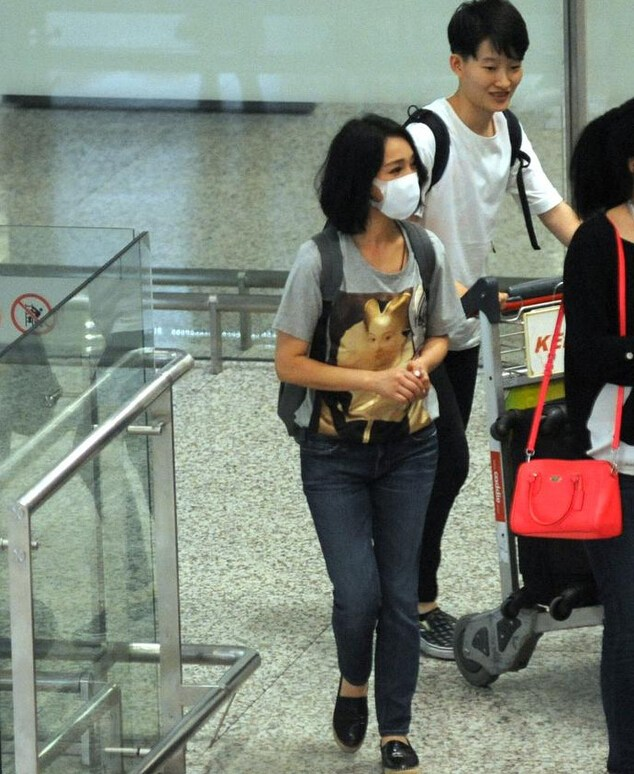face: (464, 31, 521, 112)
face_mask: (368, 136, 421, 220)
